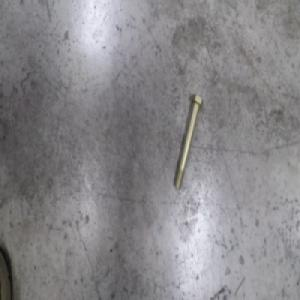Bolt: (172, 93, 204, 191)
